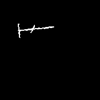double_crochet: (18, 24, 51, 36)
